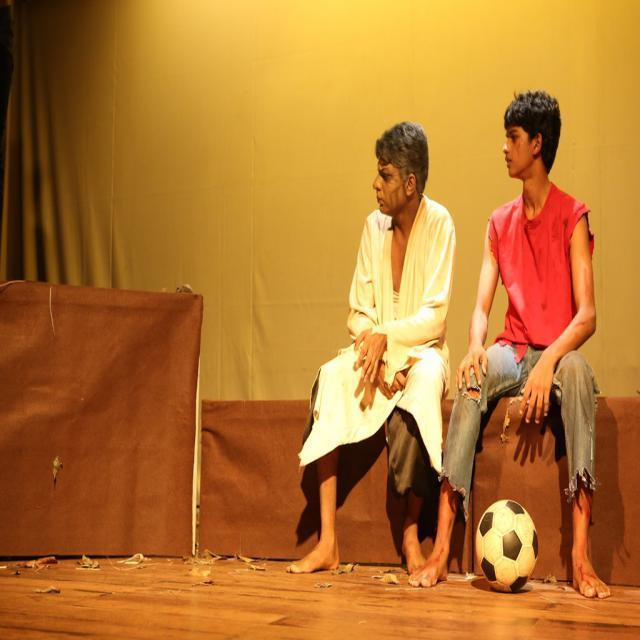ball: (473, 497, 540, 593)
